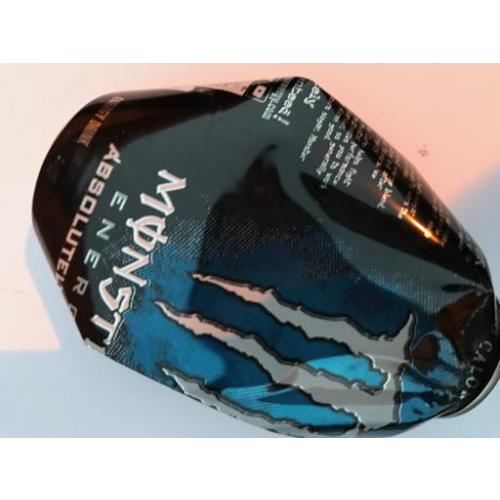metal: (32, 75, 500, 436)
